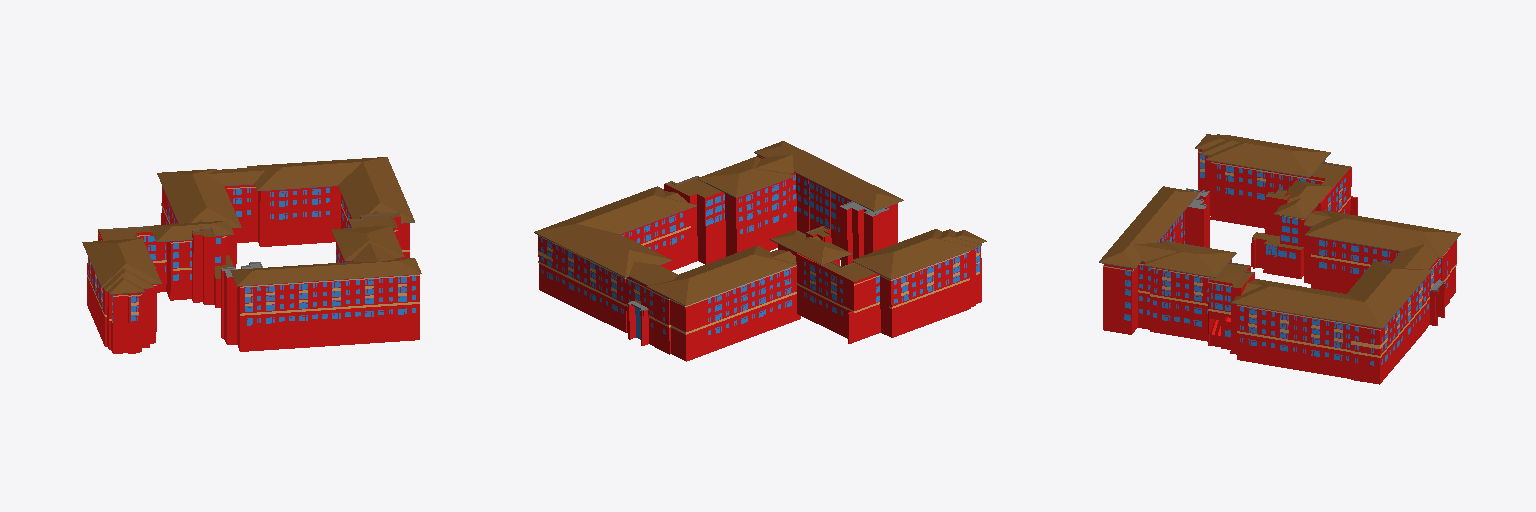
The model's file is EricksonHall.obj.
3 views of the same model, side by side, from view 1: azimuth 30°, elevation 25°; view 2: azimuth 150°, elevation 25°; view 3: azimuth 270°, elevation 25° (orthographic).
Parts seen in each view (by area): view 1: SM_Erickson_Bldgs, SM_Erickson_WndwsRoofs; view 2: SM_Erickson_Bldgs, SM_Erickson_WndwsRoofs; view 3: SM_Erickson_Bldgs, SM_Erickson_WndwsRoofs.
Boxes of the visible parts, box(x1,y1,x2,y2) form: SM_Erickson_Bldgs: box(87, 185, 419, 353); SM_Erickson_WndwsRoofs: box(82, 157, 421, 325); SM_Erickson_Bldgs: box(538, 155, 981, 361); SM_Erickson_WndwsRoofs: box(534, 141, 986, 339); SM_Erickson_Bldgs: box(1103, 149, 1456, 384); SM_Erickson_WndwsRoofs: box(1099, 134, 1460, 365).
Size of the model in its own units: 12288 by 2654 by 10562.